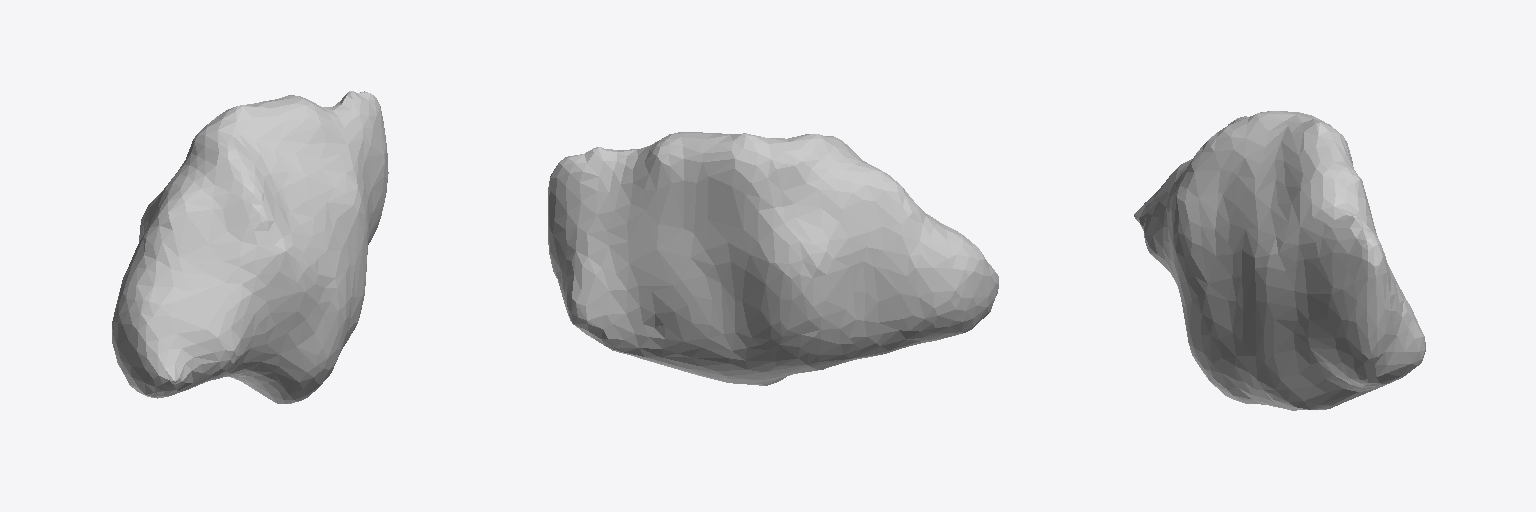
Rendered from R-Globus.obj.
3 views of the same model, side by side, from view 1: azimuth 30°, elevation 25°; view 2: azimuth 150°, elevation 25°; view 3: azimuth 270°, elevation 25° (orthographic).
Visible parts, largest first — view 1: R-globus_LEFT-globus.001; view 2: R-globus_LEFT-globus.001; view 3: R-globus_LEFT-globus.001.
Boxes of the visible parts, x1,y1,x2,y2 form: R-globus_LEFT-globus.001: [112, 91, 388, 403]; R-globus_LEFT-globus.001: [548, 132, 998, 385]; R-globus_LEFT-globus.001: [1134, 111, 1425, 410].
Size of the model in its own units: 25.43 by 18.96 by 18.64.